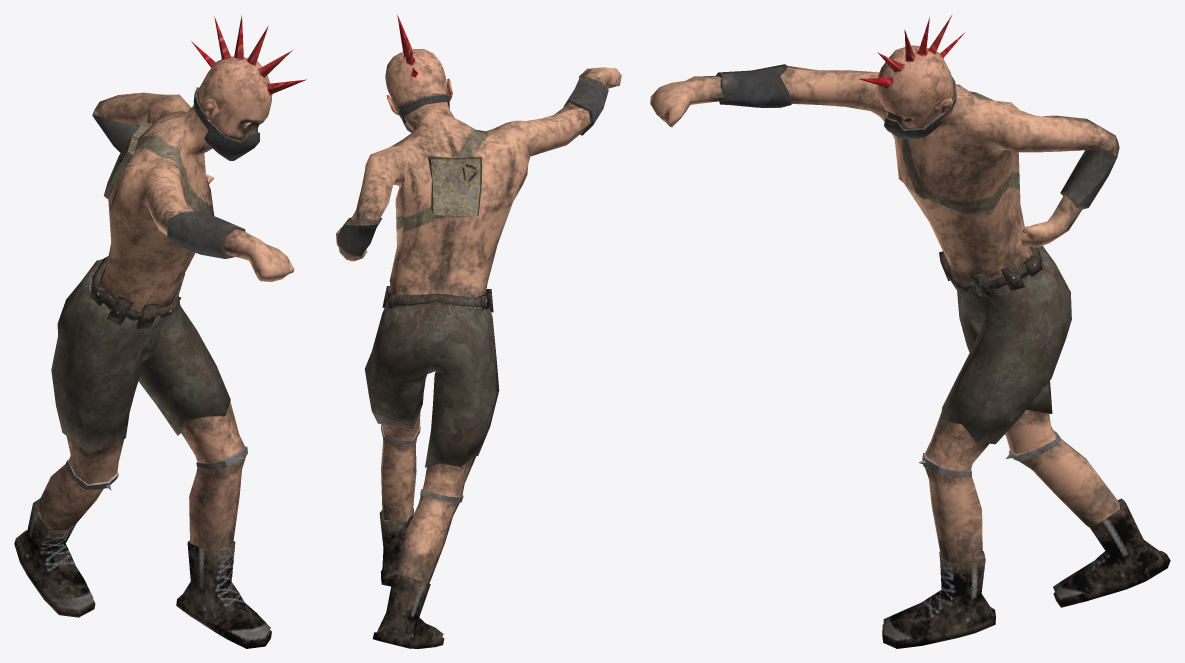
The model's file is Anim_ataque_d2_npc2.0027.obj.
3 renders of one model, left to right at view 1: azimuth 30°, elevation 25°; view 2: azimuth 150°, elevation 25°; view 3: azimuth 270°, elevation 25°, orthographic. The views are drawn at different scales.
Visible parts, largest first — view 1: polySurface1; view 2: polySurface1; view 3: polySurface1.
Part boxes in pixels (left/top/right/bottom): polySurface1: left=14, top=14, right=306, bottom=648; polySurface1: left=336, top=15, right=621, bottom=648; polySurface1: left=650, top=14, right=1170, bottom=648.
Size of the model in its own units: 2.79 by 9.45 by 7.01.
